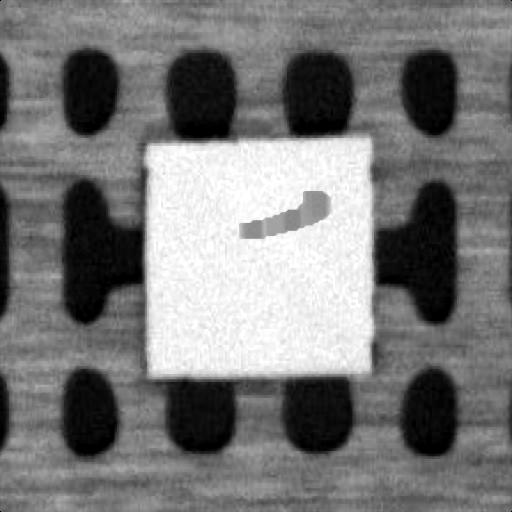DIE_INK: (234, 183, 331, 231)
